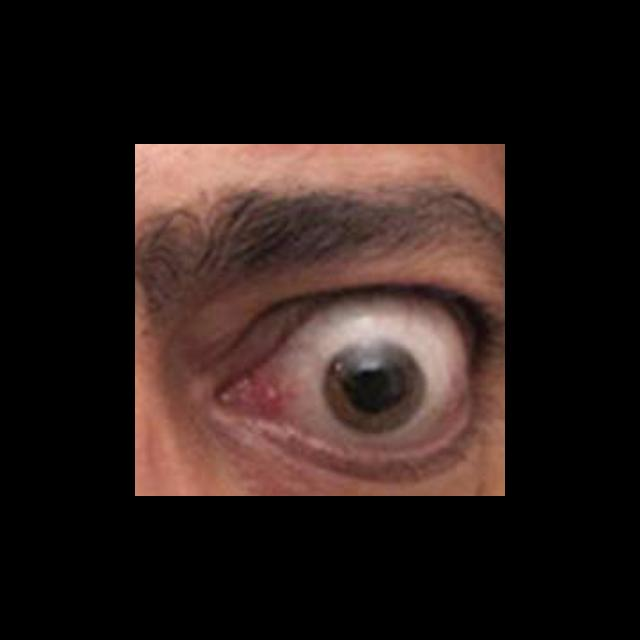eye: (280, 291, 473, 453)
iris: (325, 337, 427, 436)
